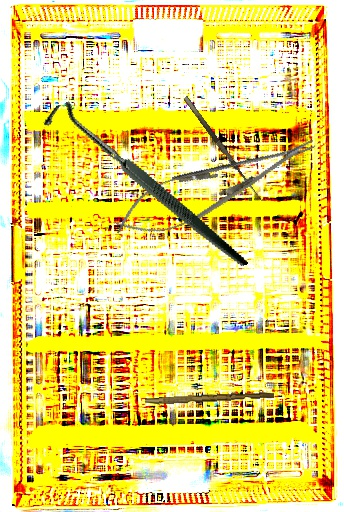Hook Surgical: (39, 61, 249, 316), (183, 91, 269, 204)
Needle Holder: (105, 119, 327, 253)
Scalpel Handle: (144, 389, 275, 408)
